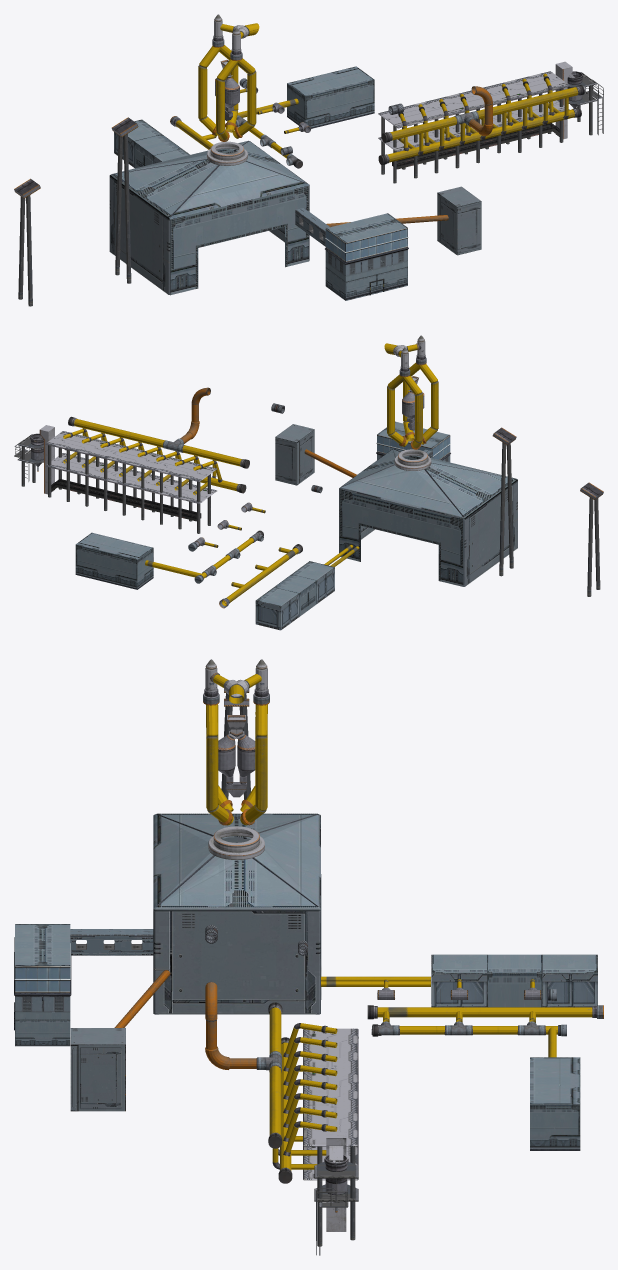
File: 高炉大模型.obj
3 views of the same model, one above another, from view 1: azimuth 30°, elevation 25°; view 2: azimuth 150°, elevation 25°; view 3: azimuth 270°, elevation 25° (orthographic). The views are drawn at different scales.
Visible parts, largest first — view 1: ChamferBowx006, Cylinder061, Box341, Box006, ChamferBox001, Box340, Cylinder087, Box007, Object040, Cylinder026, ChamferBox032, Cylinder092 (+4 smaller); view 2: ChamferBowx006, Cylinder061, Box006, Box007, ChamferBox001, ChamferBox032, Cylinder087, Box340, Box341, Object040, Cylinder026, Cylinder092 (+2 smaller); view 3: ChamferBowx006, Cylinder061, Box007, Box341, ChamferBox001, Box006, Box340, ChamferBox030, Cylinder026, Cylinder092, Cylinder033, Line049 (+1 smaller).
Boxes of the visible parts, x1,y1,x2,y2 form: ChamferBowx006: (109,140,309,295); Cylinder061: (175,45,578,162); Box341: (325,213,408,300); Box006: (287,66,374,128); ChamferBox001: (378,71,570,128); Box340: (437,186,481,255); Cylinder087: (18,133,131,306); Box007: (114,119,189,168); Object040: (392,123,559,169); Cylinder026: (326,86,493,226); ChamferBox032: (378,100,569,151); Cylinder092: (207,141,247,165); ChamferBowx006: (339,449,517,586); Cylinder061: (63,362,438,605); Box006: (75,532,153,589); Box007: (255,561,334,630); ChamferBox001: (45,431,216,481); ChamferBox032: (45,453,216,503); Cylinder087: (499,442,600,596); Box340: (275,424,314,485); Box341: (376,421,450,462); Object040: (51,479,201,521); Cylinder026: (180,387,356,477); Cylinder092: (394,449,431,470); ChamferBowx006: (153,813,321,1014); Cylinder061: (206,704,592,1170); Box007: (431,954,597,1007); Box341: (14,924,71,1046); ChamferBox001: (303,1028,358,1146); Box006: (530,1057,580,1150); Box340: (70,1028,125,1111); ChamferBox030: (70,929,153,955); Cylinder026: (114,970,256,1069); Cylinder092: (208,826,264,859); Cylinder033: (218,734,255,776); Line049: (203,659,269,705).
Bounding box in the file's own units: 177 × 64.07 × 106.
